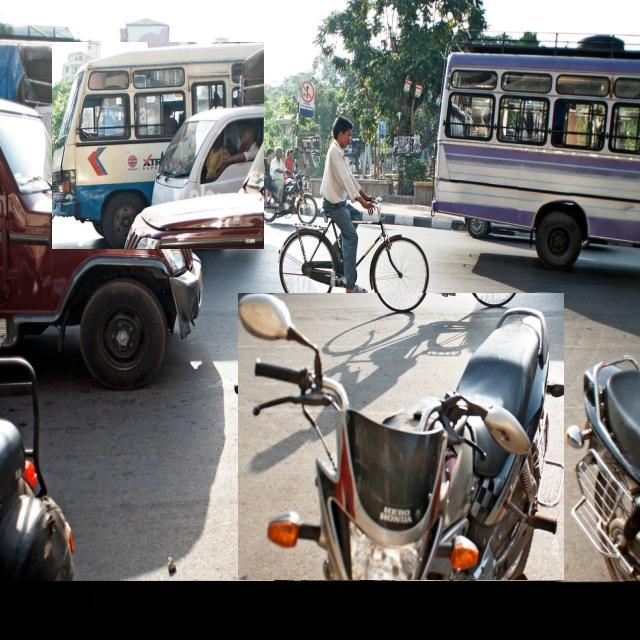bicycle: (280, 116, 429, 311)
bus: (434, 39, 640, 270), (52, 42, 264, 249)
car: (0, 101, 202, 389)
motorcycle: (238, 293, 564, 580)
